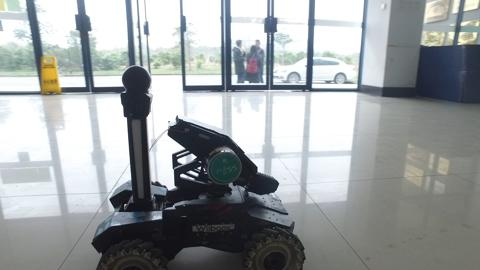chariot: (82, 62, 311, 270)
